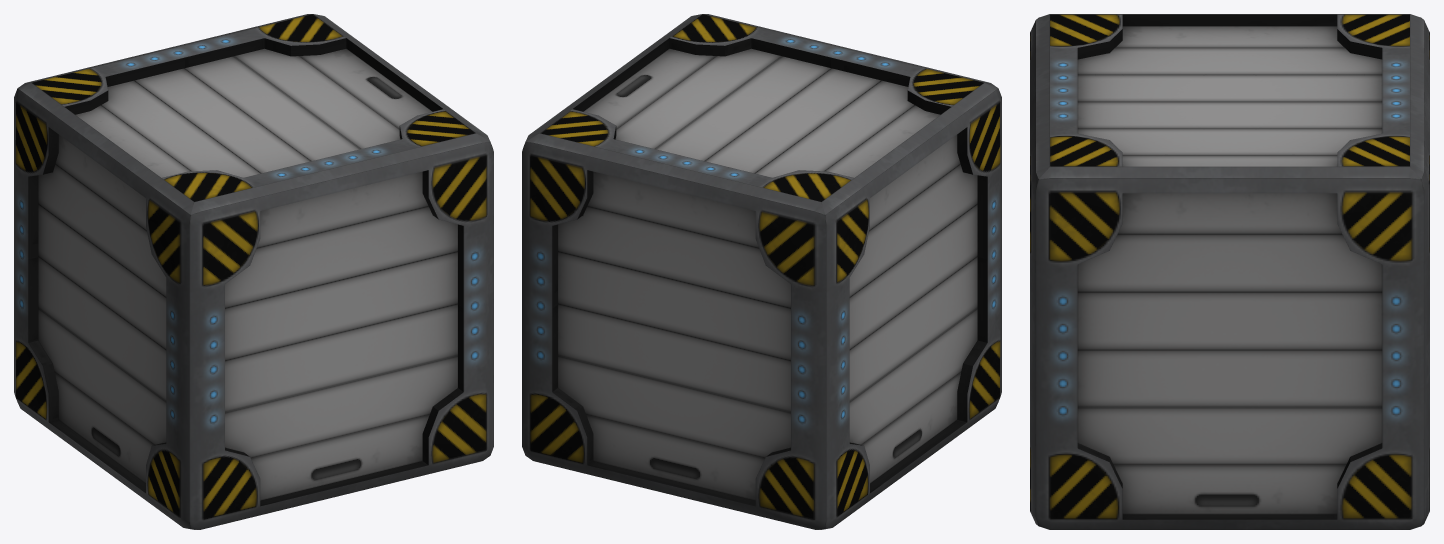
The model's file is Crate.fbx.
The picture shows the model from 3 angles, left to right: view 1: azimuth 30°, elevation 25°; view 2: azimuth 150°, elevation 25°; view 3: azimuth 270°, elevation 25°; orthographic projection. The views are drawn at different scales.
Visible parts, largest first — view 1: Crate; view 2: Crate; view 3: Crate.
Boxes of the visible parts, x1,y1,x2,y2 form: Crate: (14, 14, 493, 529); Crate: (522, 14, 1001, 529); Crate: (1030, 14, 1429, 529).
Bounding box in the file's own units: 1 × 1 × 1.
1 material, 1 textured.
